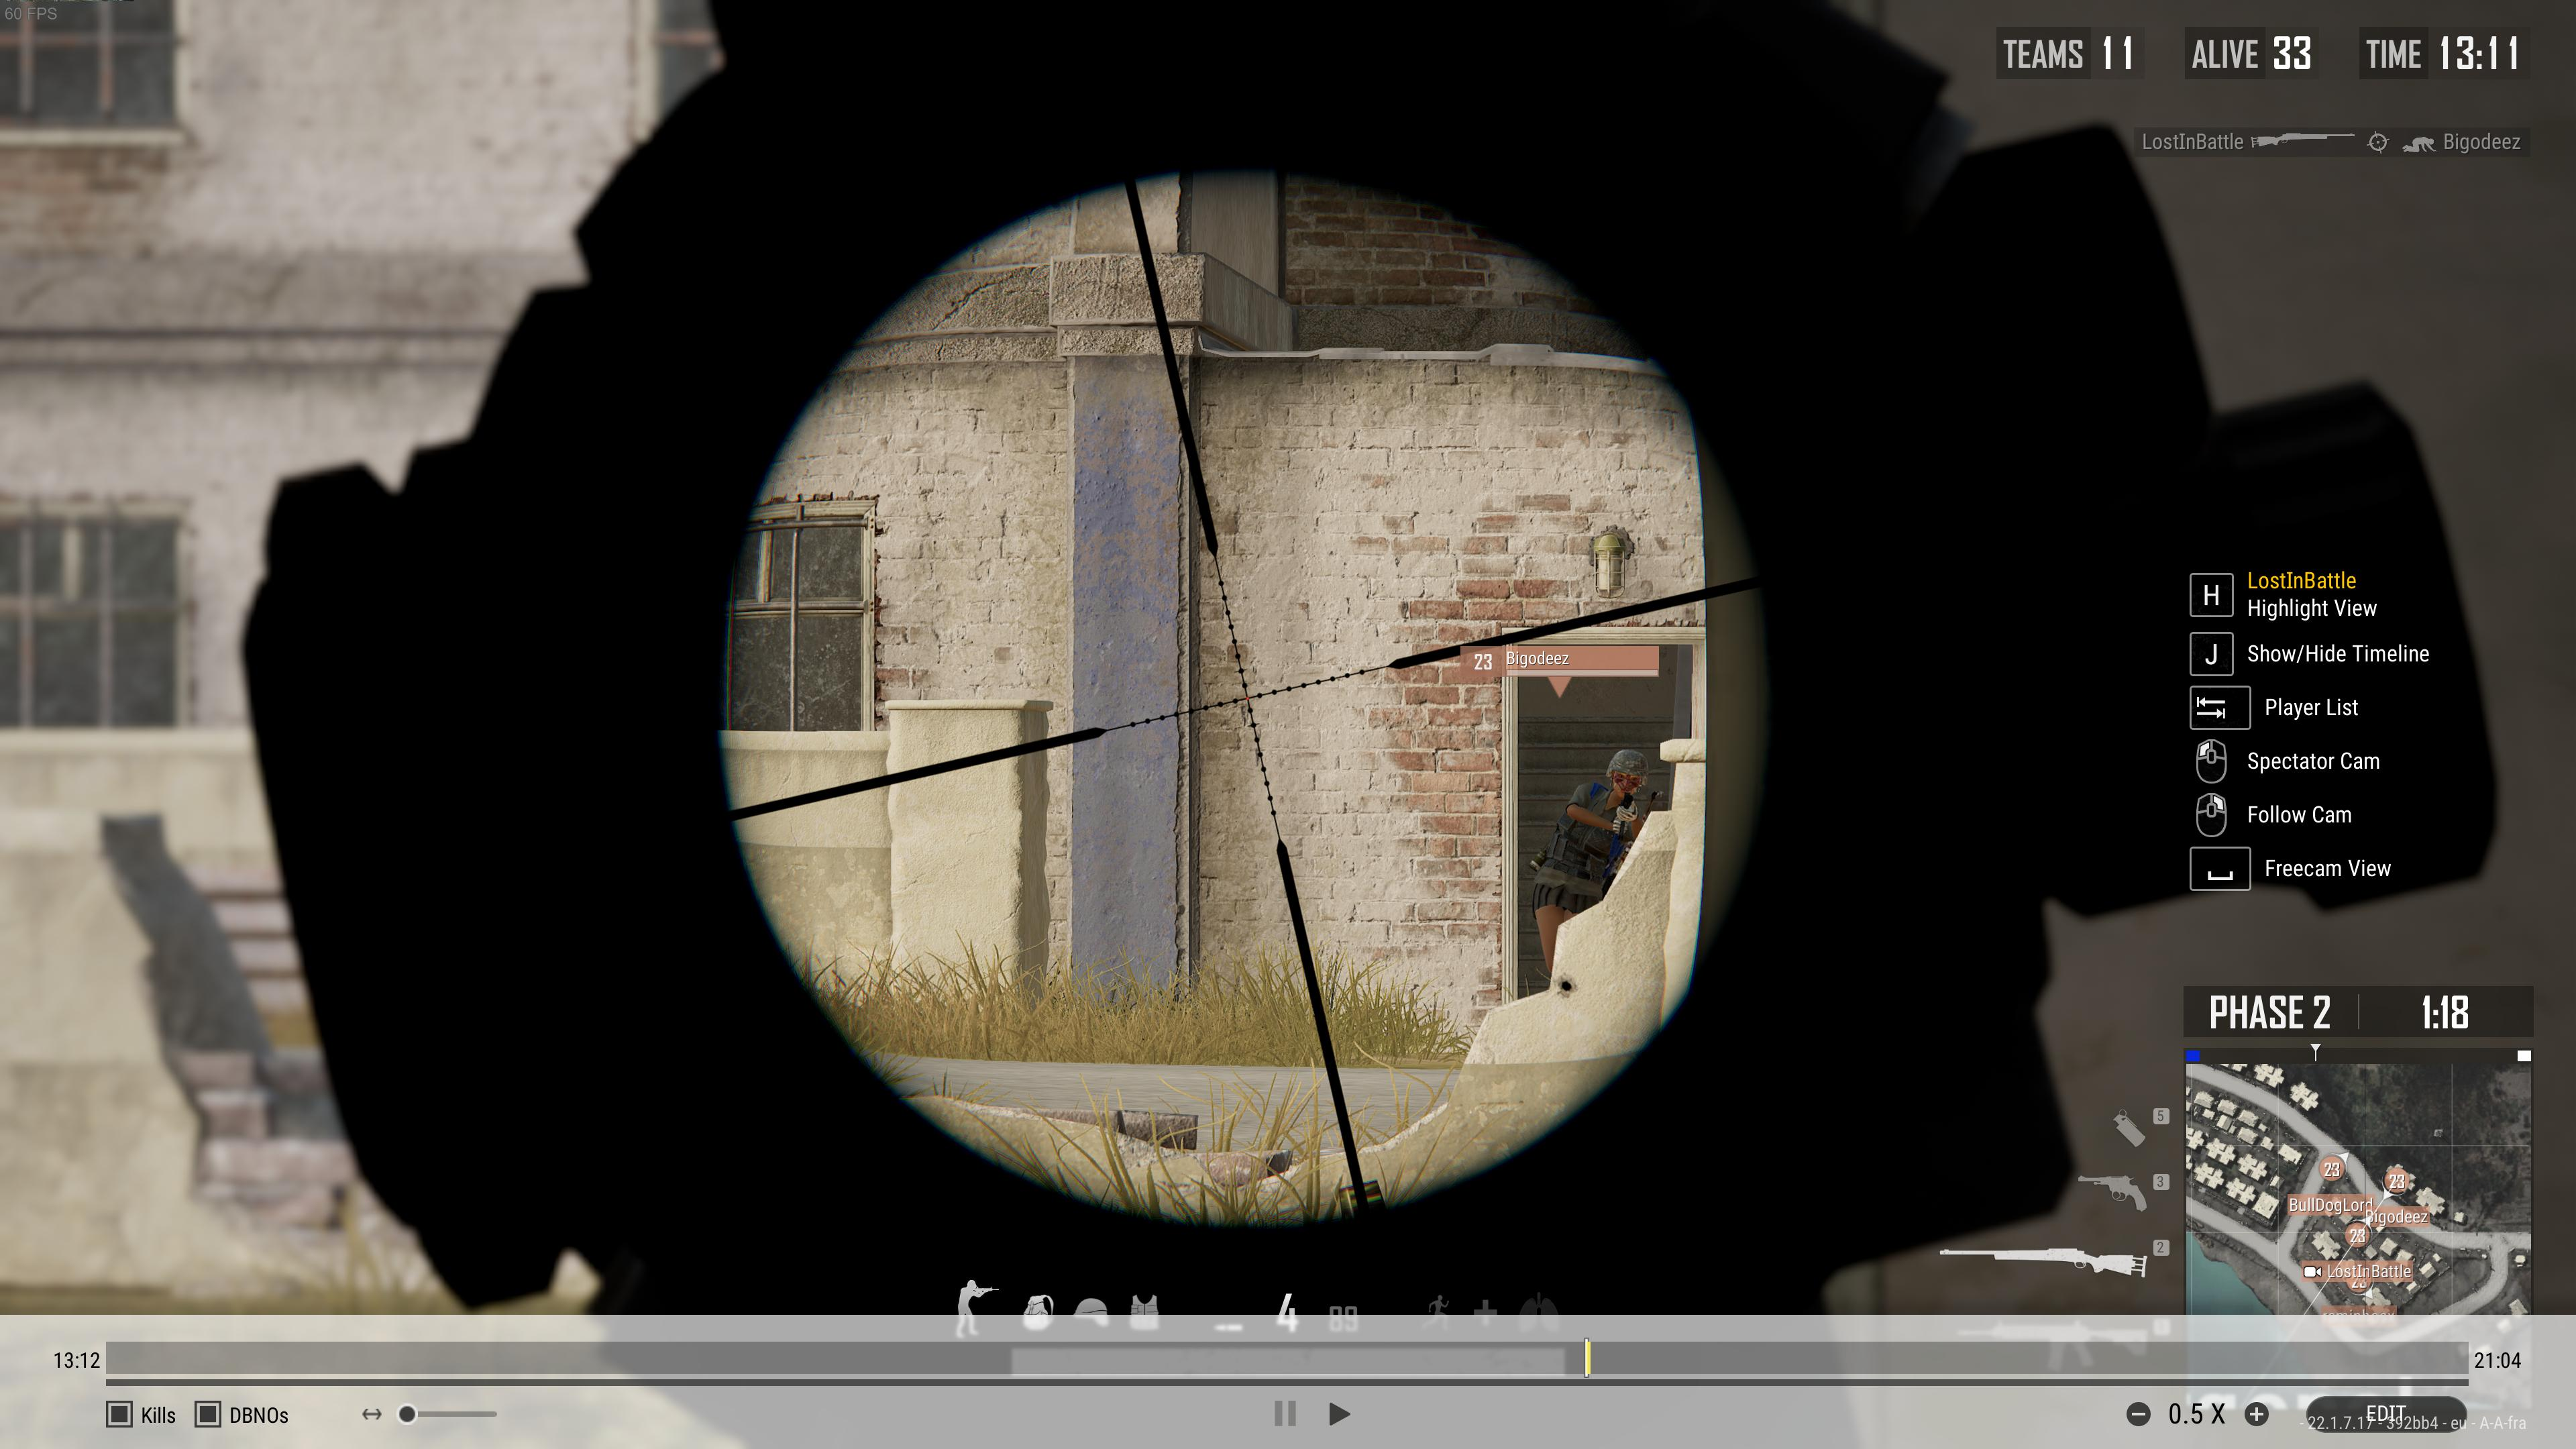enemy: (1529, 747, 1649, 998)
enemy_head: (1605, 748, 1649, 801)
